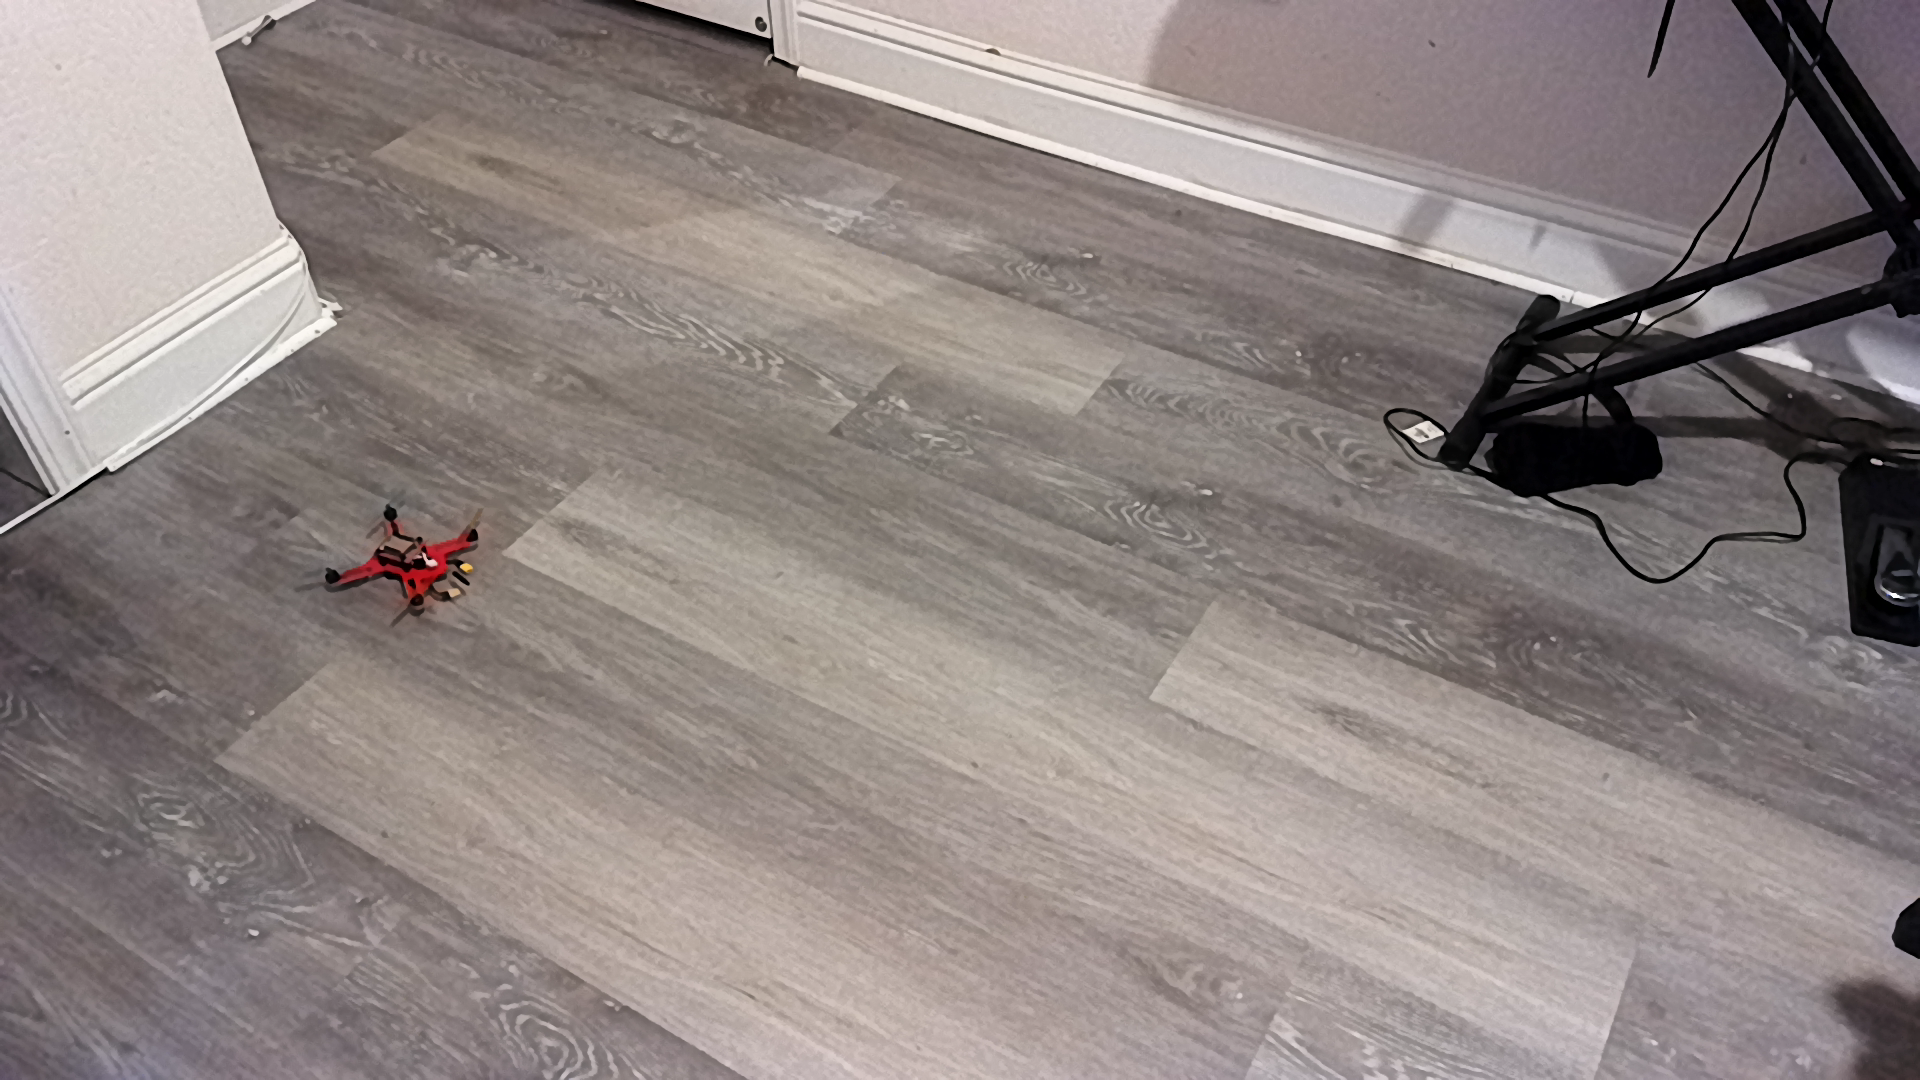drone: (305, 495, 508, 630)
